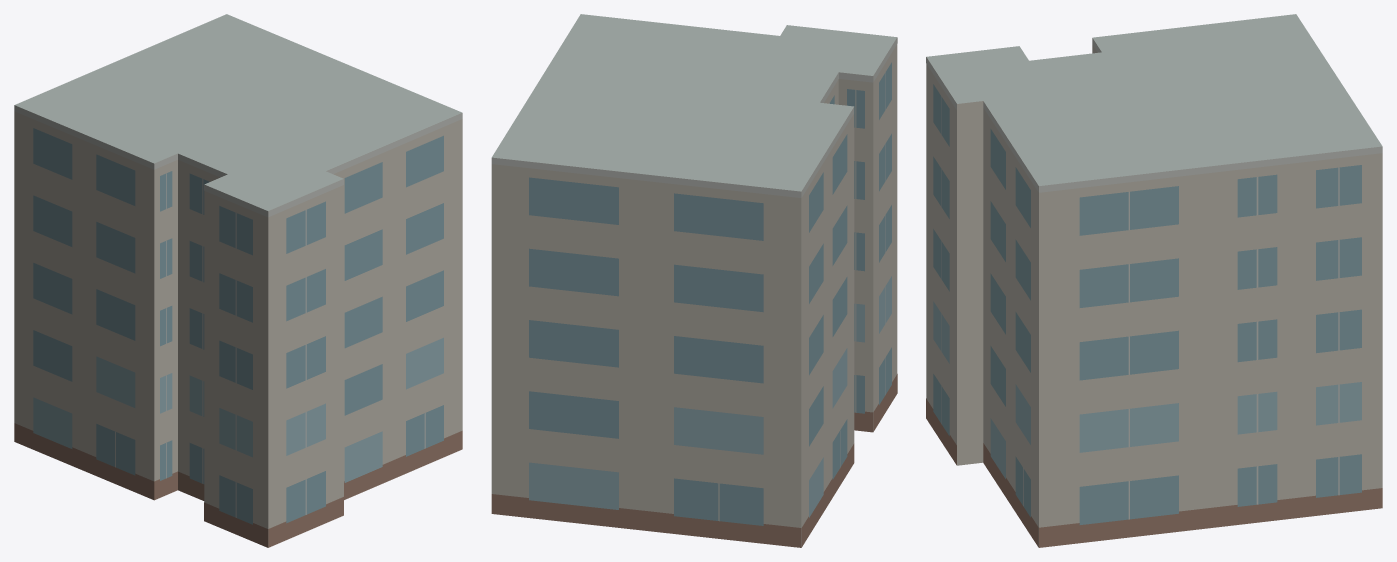
The model's file is survey-upis-32917870.glb.
The picture shows the model from 3 angles, left to right: view 1: azimuth 30°, elevation 25°; view 2: azimuth 150°, elevation 25°; view 3: azimuth 270°, elevation 25°; orthographic projection. The views are drawn at different scales.
Visible parts, largest first — view 1: survey-upis-32917870.tmp; view 2: survey-upis-32917870.tmp; view 3: survey-upis-32917870.tmp.
Part boxes in pixels (left/top/right/bottom): survey-upis-32917870.tmp: left=14, top=14, right=462, bottom=547; survey-upis-32917870.tmp: left=491, top=14, right=897, bottom=547; survey-upis-32917870.tmp: left=926, top=14, right=1382, bottom=547.
Size of the model in its own units: 13.53 by 13.25 by 15.16.
